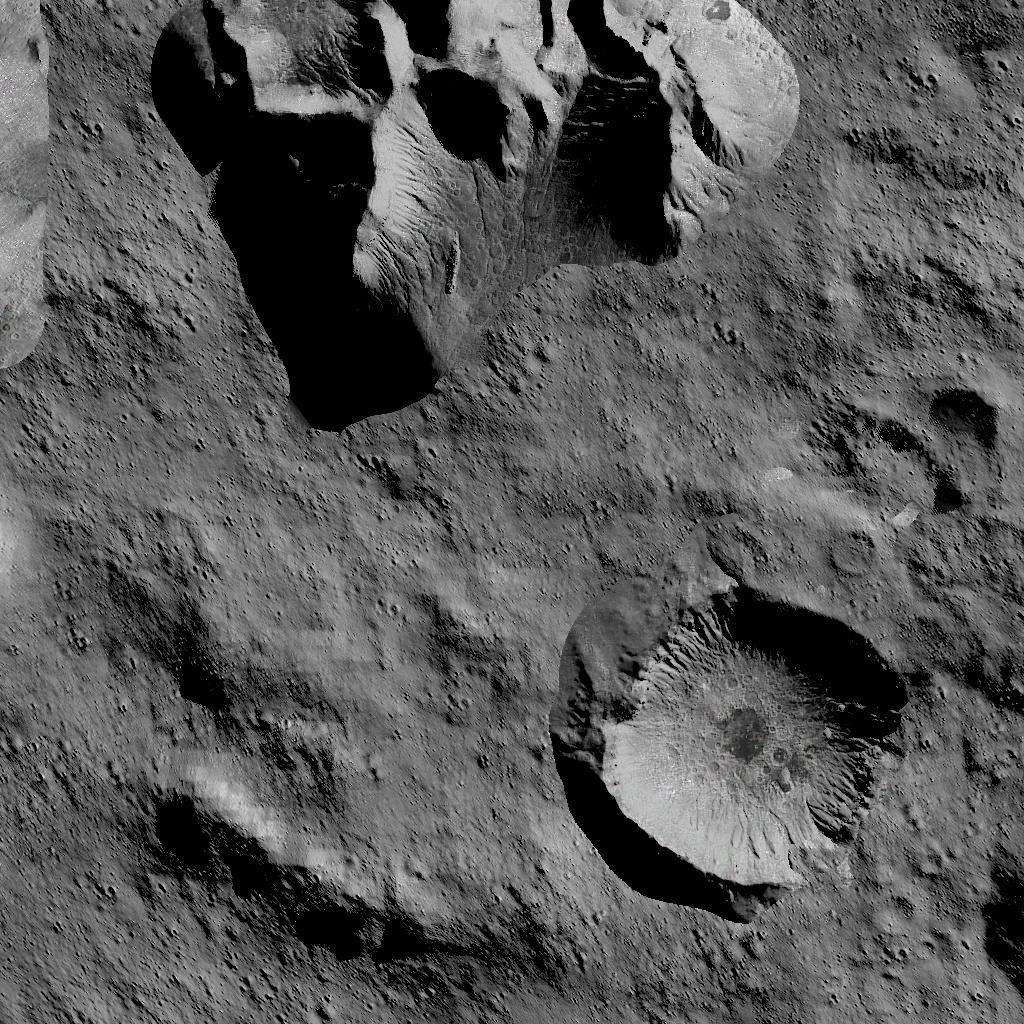Boulders: (154, 0, 800, 428), (154, 782, 580, 972), (0, 0, 48, 368)
Crater: (598, 588, 910, 892)
Plan surface: (816, 0, 1024, 378), (0, 615, 141, 1024), (596, 905, 970, 1024)
